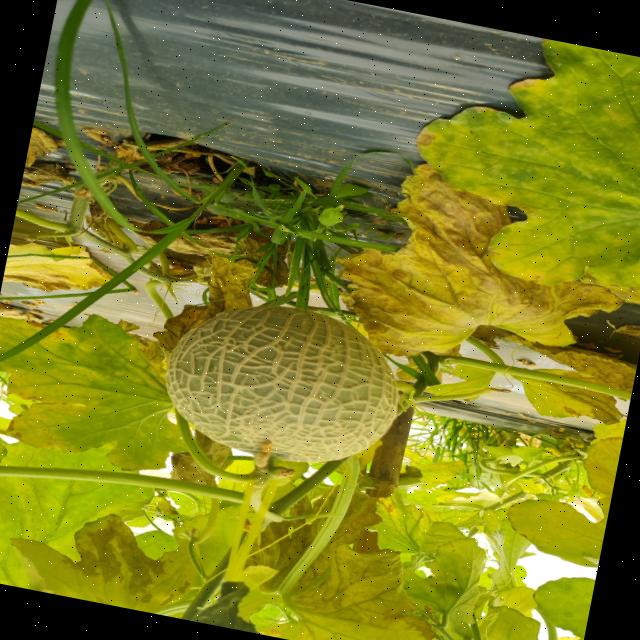melon: (165, 305, 398, 461)
